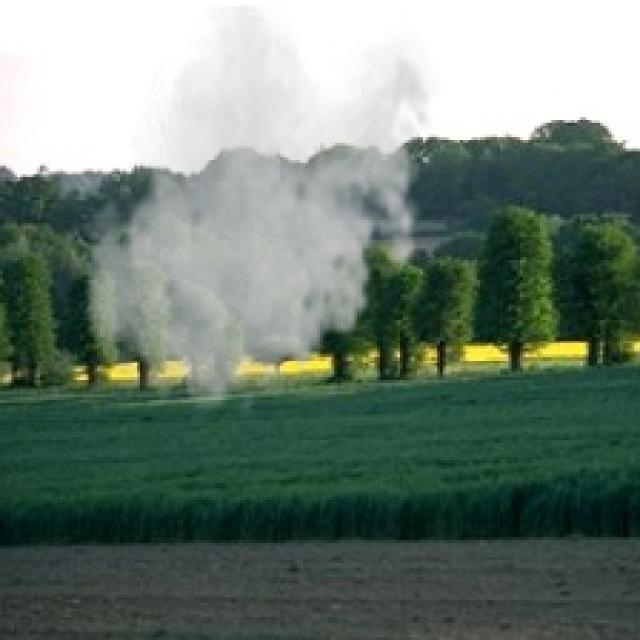Smoke: (77, 6, 443, 426)
